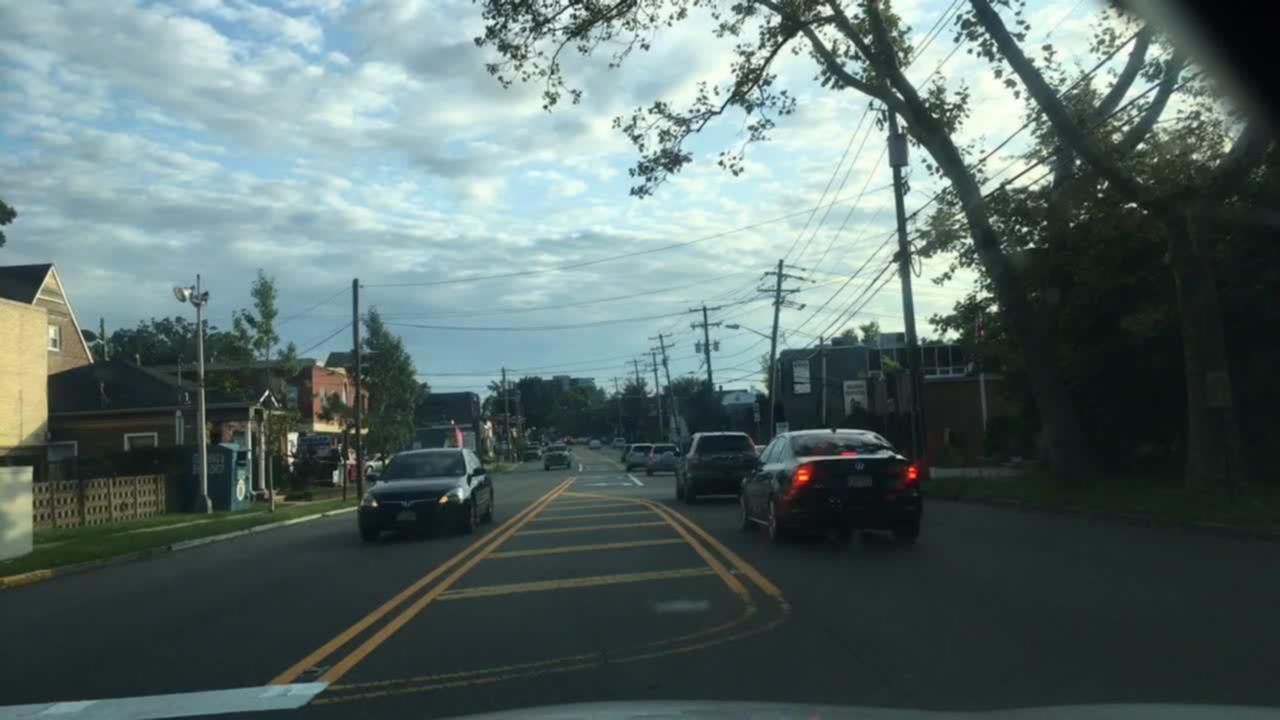Honda: (399, 498, 415, 513)
Volkswagen: (849, 456, 869, 477)
